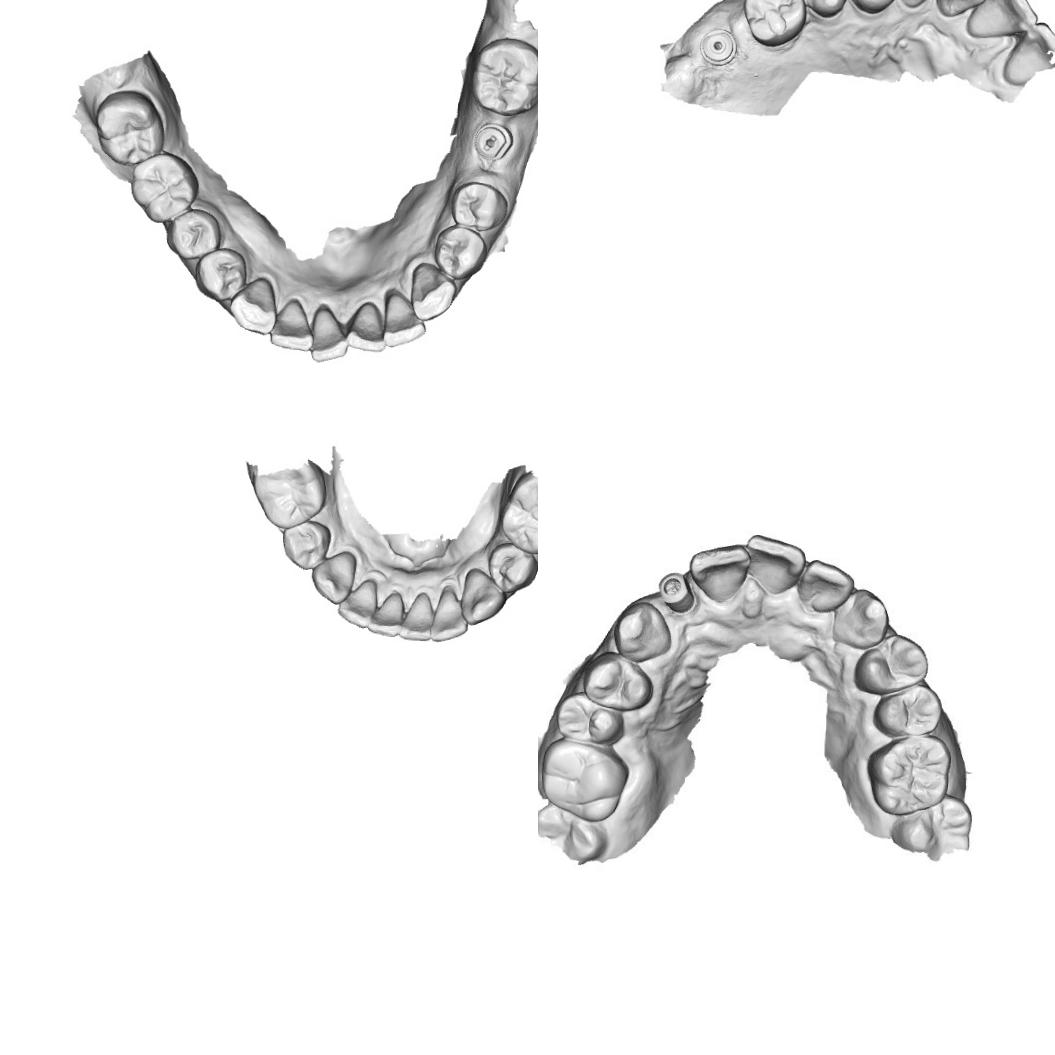canine: (831, 591, 889, 650), (407, 260, 460, 323), (226, 274, 276, 336), (460, 566, 509, 628), (309, 548, 357, 605), (615, 604, 672, 652)
implant: (699, 24, 737, 68), (658, 574, 696, 616)
implant_minus: (472, 120, 514, 164)
incisor: (999, 18, 1055, 86), (746, 532, 805, 592), (964, 0, 1041, 43), (694, 546, 746, 604), (800, 557, 853, 612), (382, 287, 428, 350), (268, 296, 314, 352), (308, 304, 350, 365), (344, 300, 388, 356), (429, 588, 469, 644), (336, 577, 378, 630), (398, 590, 435, 642), (365, 589, 404, 638), (934, 0, 990, 21)
molar: (864, 731, 960, 820), (538, 741, 630, 824), (91, 87, 168, 169), (469, 34, 538, 119), (126, 149, 202, 226), (250, 460, 328, 532), (740, 0, 810, 50), (498, 473, 538, 557)
premolar: (430, 223, 490, 282), (861, 638, 926, 692), (583, 654, 649, 706), (555, 693, 622, 744), (449, 178, 511, 233), (190, 246, 250, 302), (165, 206, 224, 262), (485, 541, 538, 594), (280, 518, 332, 572), (878, 689, 940, 733), (794, 0, 850, 21), (839, 0, 899, 16)
